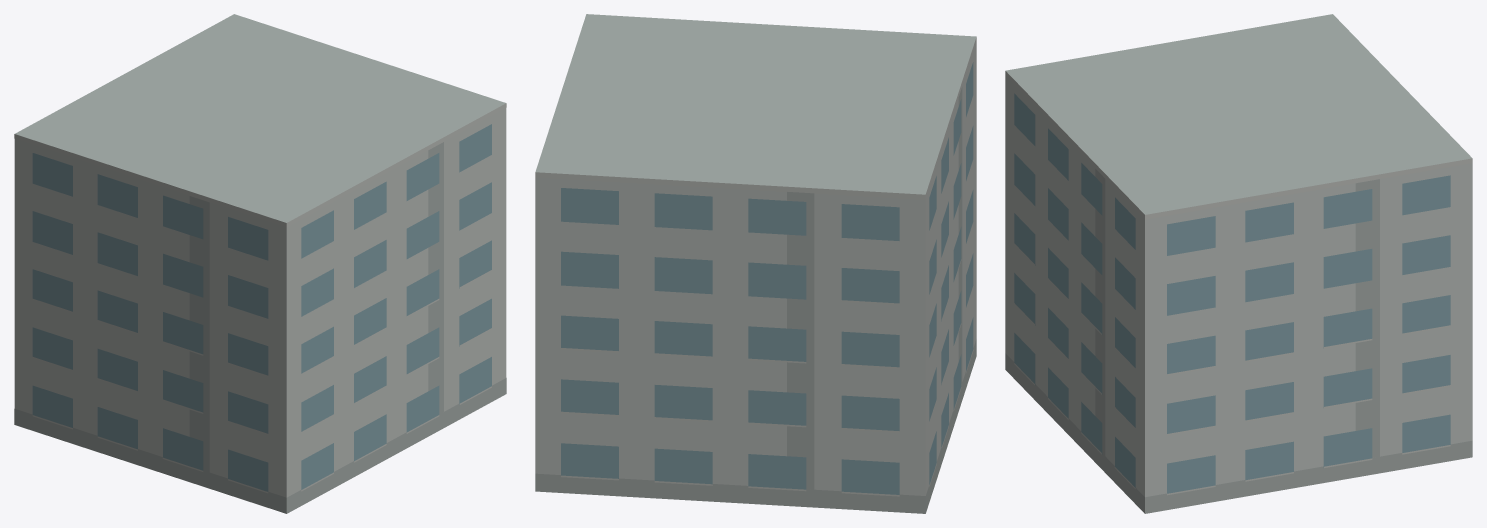
Rendered from residential-caefd0c4-96ec-406c-9bed-1bfbc3309a3e.glb.
The picture shows the model from 3 angles, left to right: view 1: azimuth 30°, elevation 25°; view 2: azimuth 150°, elevation 25°; view 3: azimuth 270°, elevation 25°; orthographic projection. The views are drawn at different scales.
Parts seen in each view (by area): view 1: residential-caefd0c4-96ec-406c-9bed-1bfbc3309a3e.tmp; view 2: residential-caefd0c4-96ec-406c-9bed-1bfbc3309a3e.tmp; view 3: residential-caefd0c4-96ec-406c-9bed-1bfbc3309a3e.tmp.
Boxes of the visible parts, x1,y1,x2,y2 form: residential-caefd0c4-96ec-406c-9bed-1bfbc3309a3e.tmp: (14,14,506,513); residential-caefd0c4-96ec-406c-9bed-1bfbc3309a3e.tmp: (535,14,976,513); residential-caefd0c4-96ec-406c-9bed-1bfbc3309a3e.tmp: (1005,14,1472,513).
Size of the model in its own units: 21.98 by 15.25 by 21.61.
